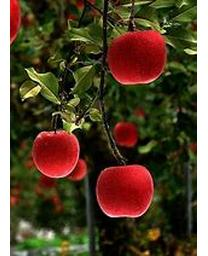apple: (106, 29, 167, 85), (95, 165, 154, 219), (31, 130, 79, 180)
